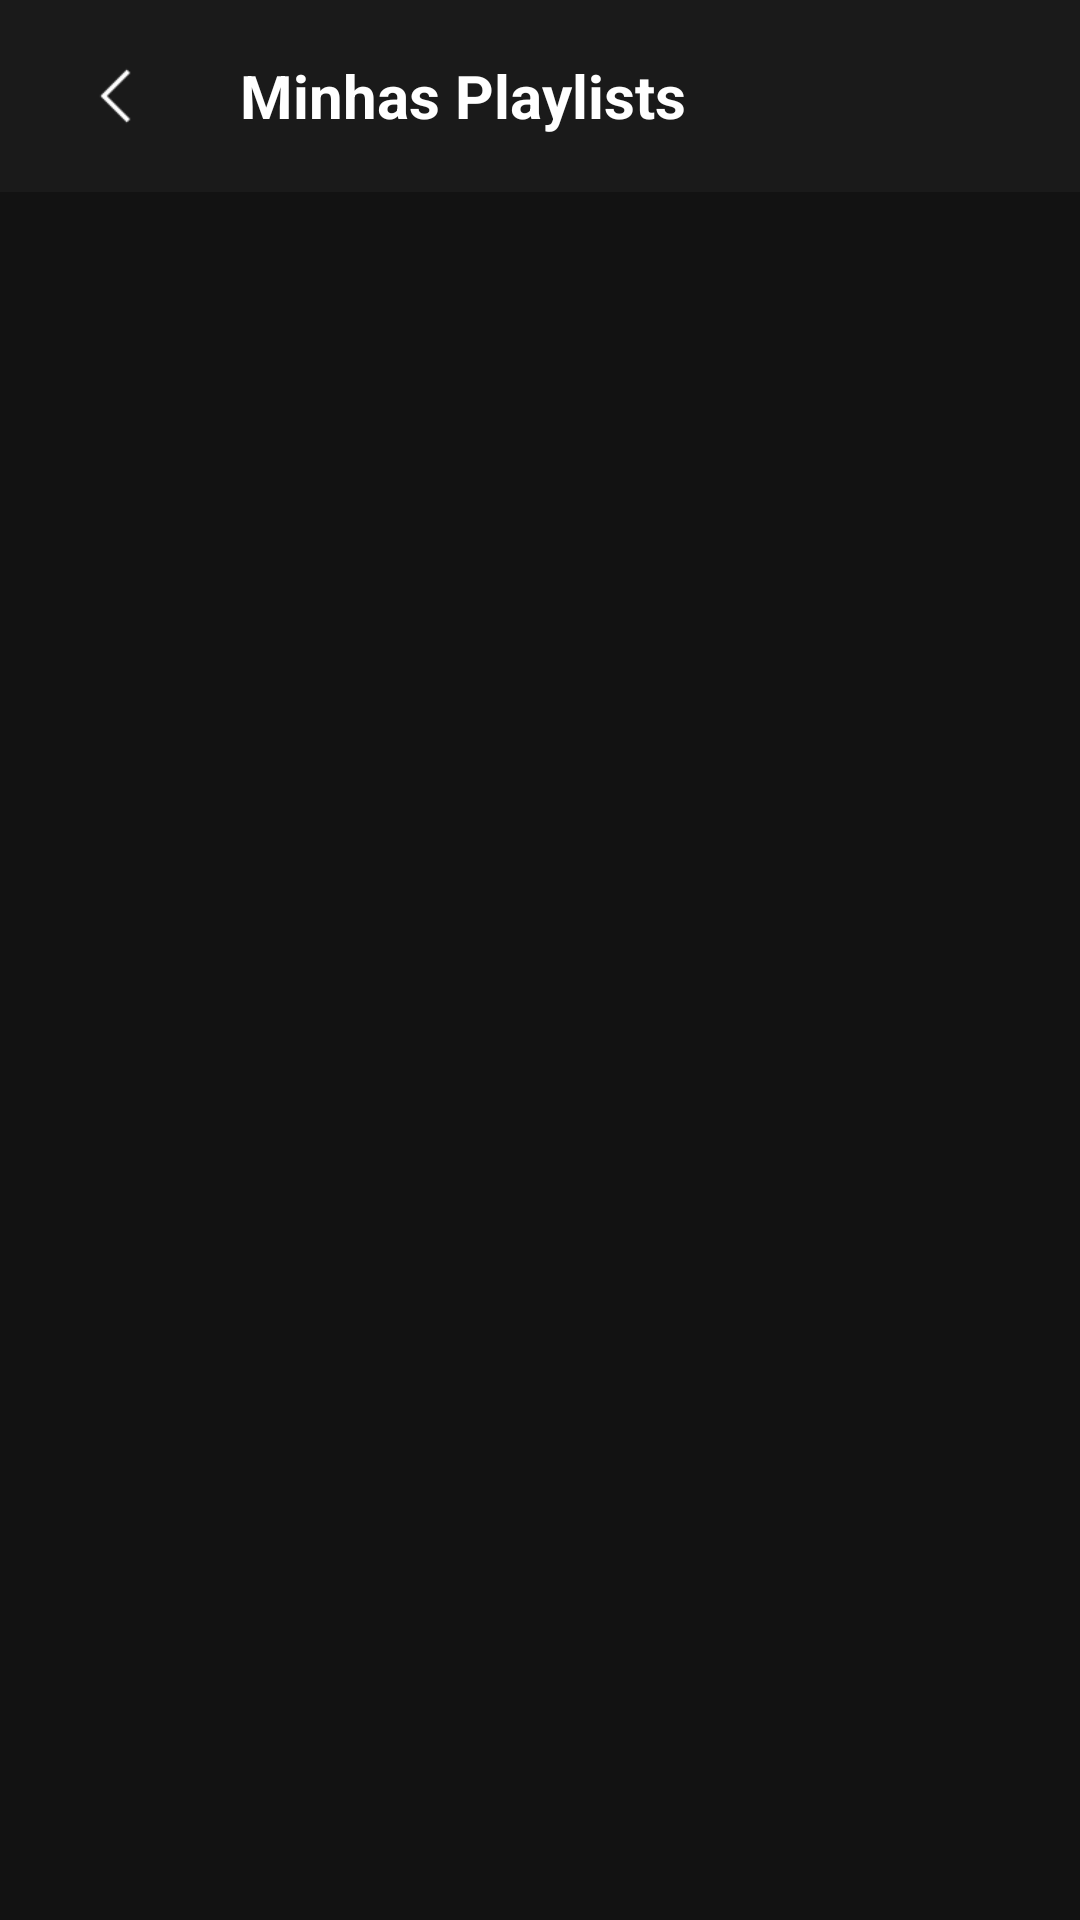

Named icons in this screenshot (1080px x 1920px) and their centers, (x,y):
Voltar: (115,96)
